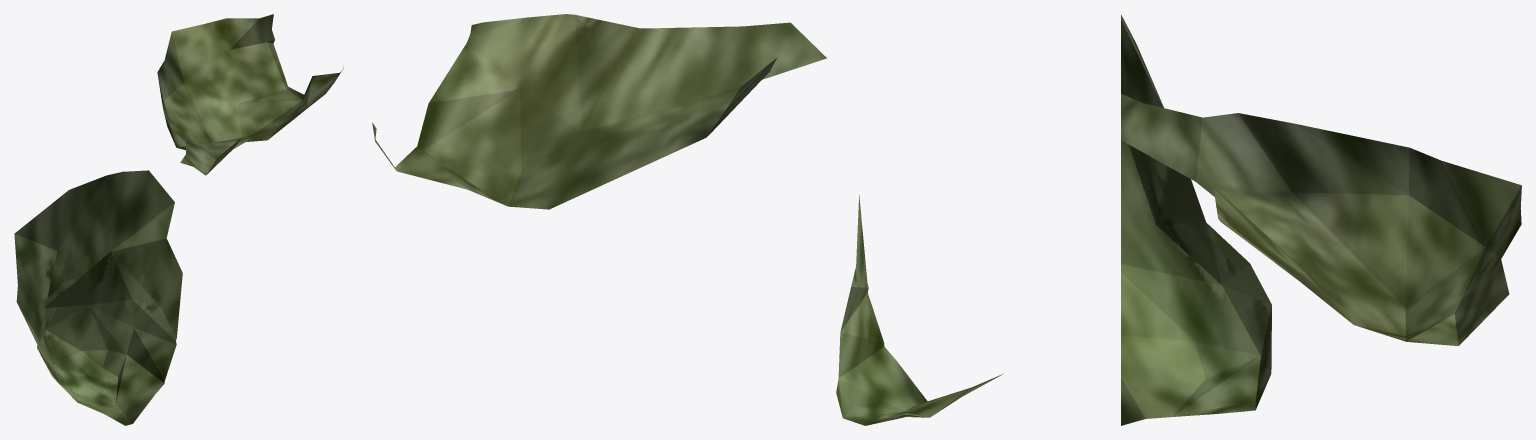
3 renders of one model, left to right at view 1: azimuth 30°, elevation 25°; view 2: azimuth 150°, elevation 25°; view 3: azimuth 270°, elevation 25°, orthographic. The views are drawn at different scales.
Size of the model in its own units: 2 by 1.23 by 1.22.
Materials: 1 (1 with a texture image).
